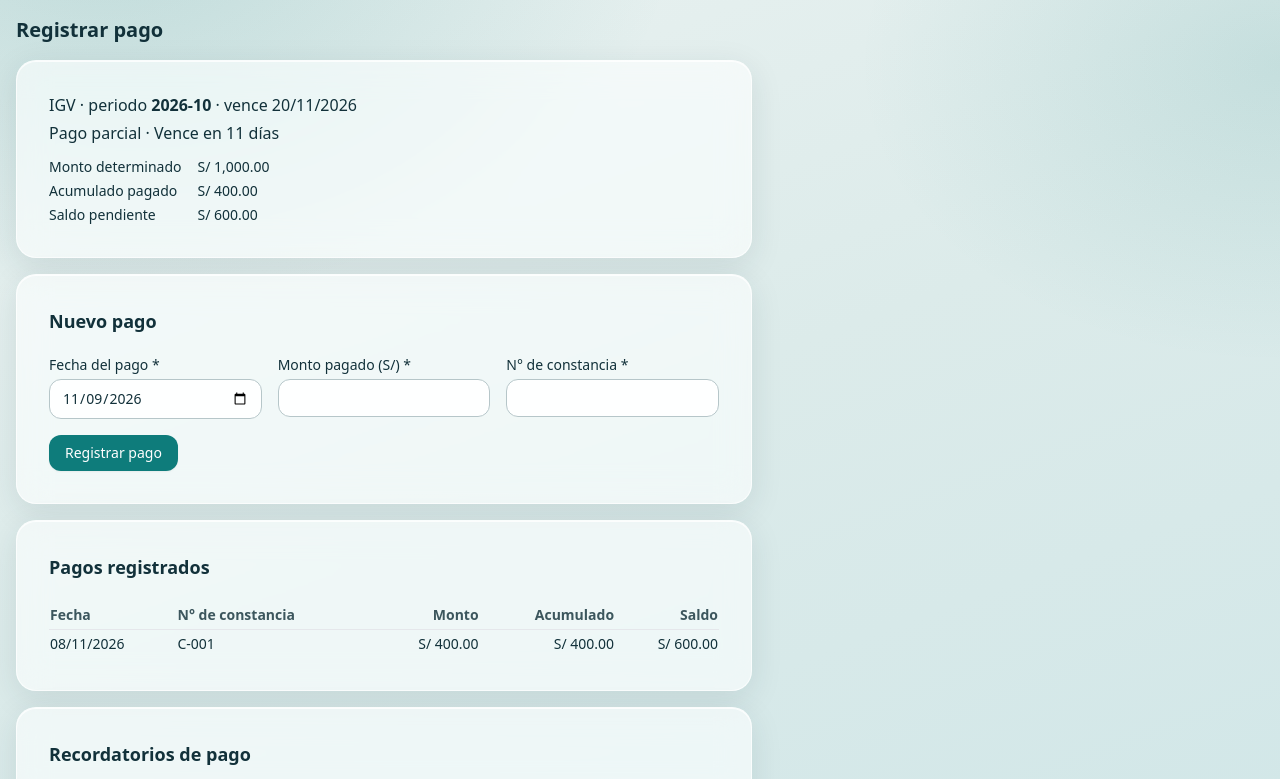
Registrar pago (HU-13, tarea 7) › rechaza una fecha futura y un número de constancia ya registrado en la obligación
Expected: the text "S/ 600.00" is shown, x1=198 y1=205 x2=258 y2=224
Step 1. Type "2026-11-10" into the date field labelled "Fecha del pago *" → (155, 399), box x1=49 y1=379 x2=262 y2=419
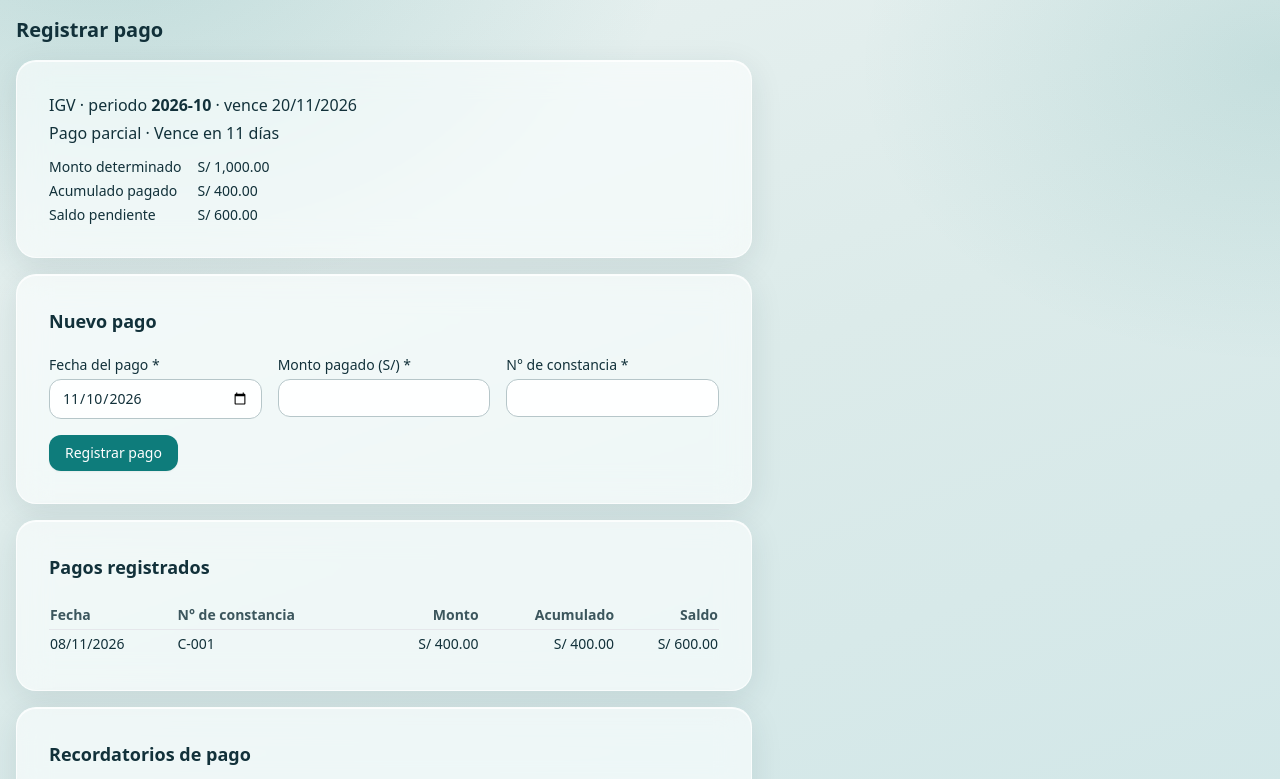
Step 2. Type "100" into the number field labelled "Monto pagado (S/) *" → (384, 398), box x1=278 y1=379 x2=490 y2=417
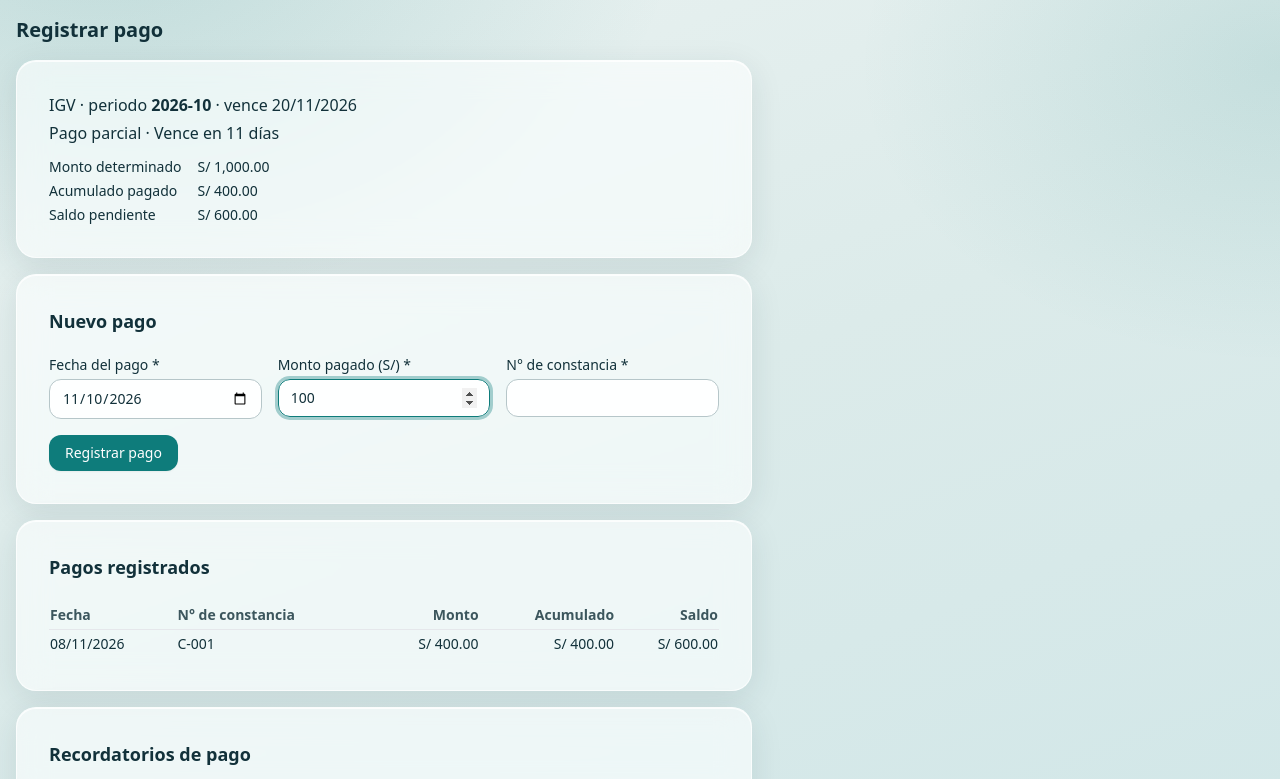
Step 3. Type "C-001" into the field labelled "N° de constancia *" → (613, 398), box x1=506 y1=379 x2=719 y2=417
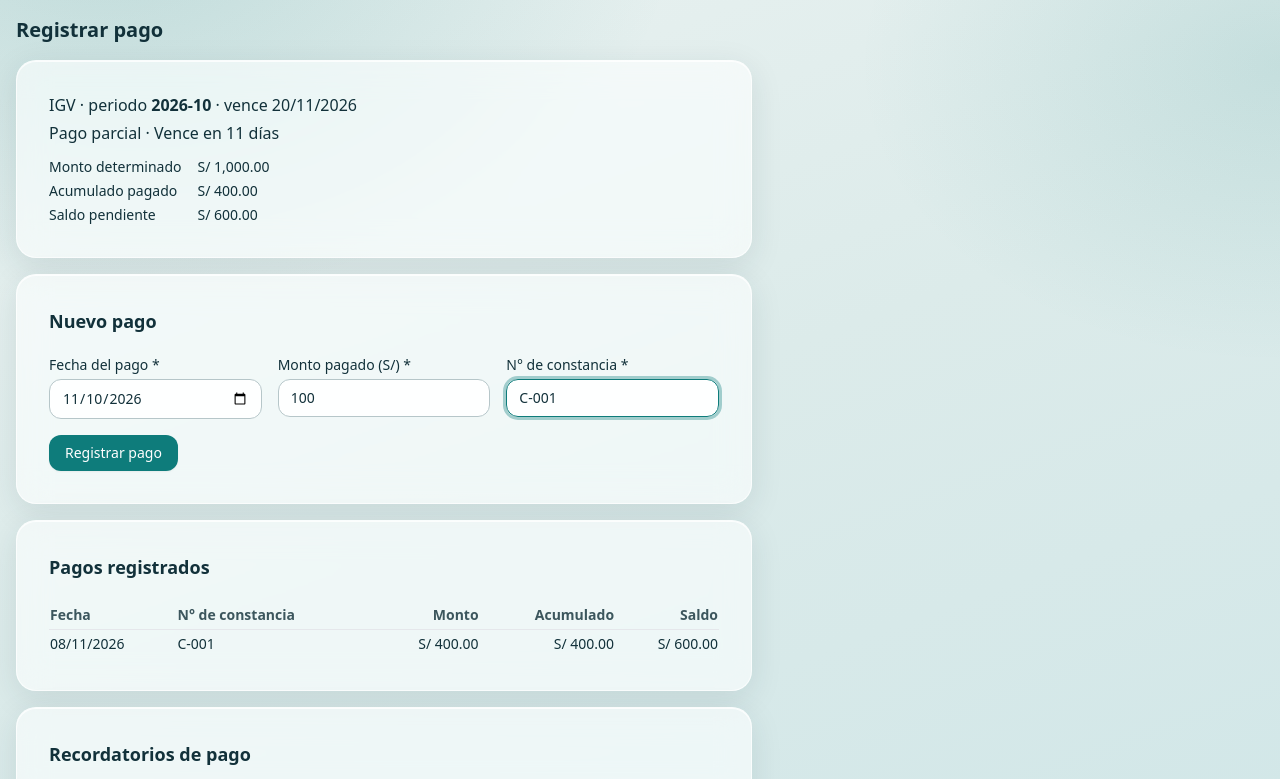
Step 4. Click the button "Registrar pago" → (113, 453), box x1=49 y1=435 x2=178 y2=471
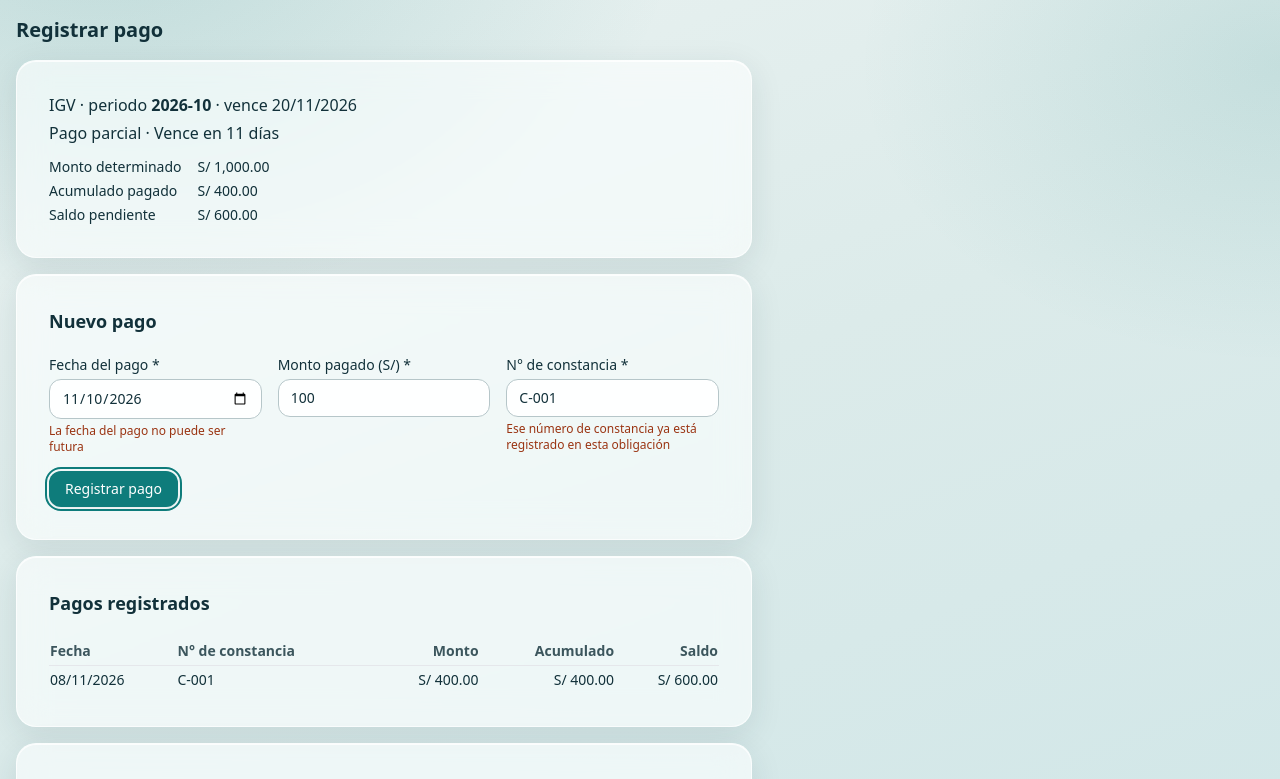
Expected: the text "La fecha del pago no puede ser futura" is shown, x1=49 y1=422 x2=225 y2=455
Expected: the text "Ese número de constancia ya está registrado en esta obligación" is shown, x1=506 y1=421 x2=719 y2=453
